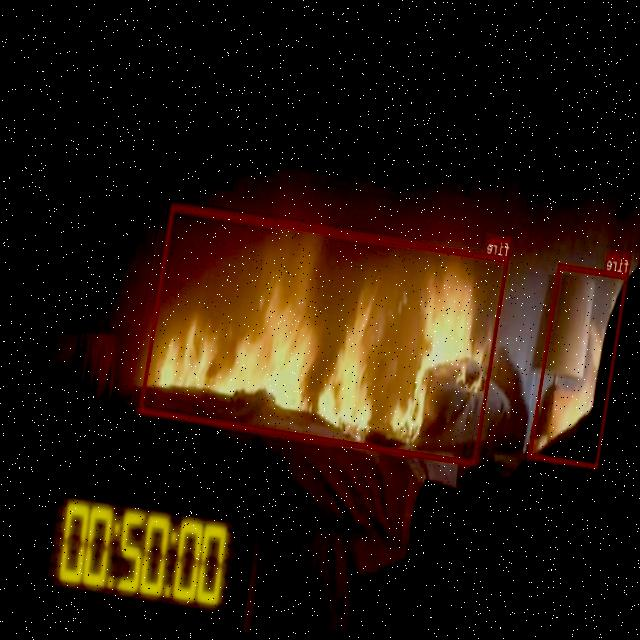fire: (140, 204, 510, 465), (528, 262, 628, 468)
